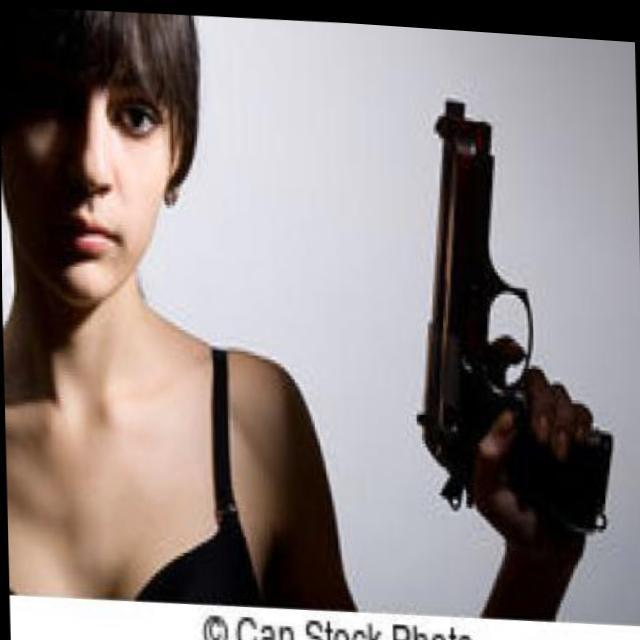weapon: (385, 77, 626, 540)
